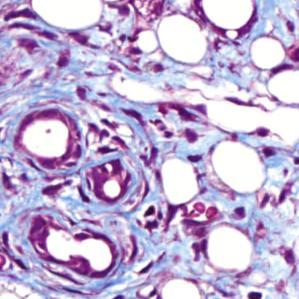steatosis: (207, 138, 266, 193), (150, 15, 211, 62), (199, 223, 259, 270), (157, 158, 204, 209)
